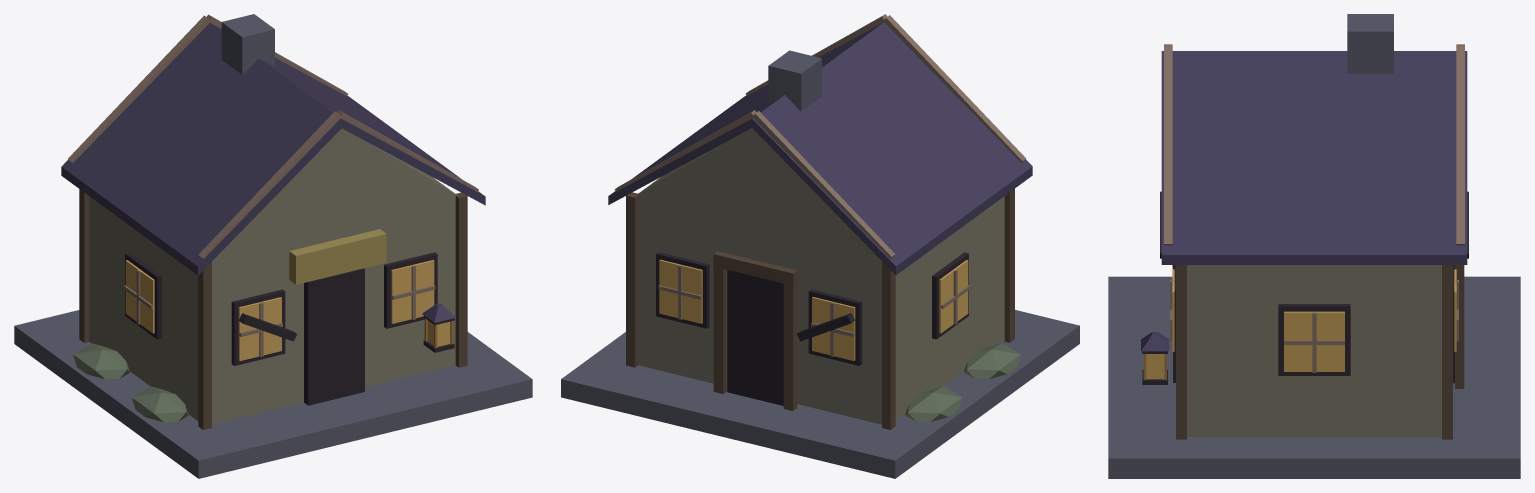
Rendered from HauntedWoods_CrookedCottage_Standard.glb.
3 renders of one model, left to right at view 1: azimuth 30°, elevation 25°; view 2: azimuth 150°, elevation 25°; view 3: azimuth 270°, elevation 25°, orthographic. The views are drawn at different scales.
Parts seen in each view (by area): view 1: HauntedWoods_CrookedCottage_Standard; view 2: HauntedWoods_CrookedCottage_Standard; view 3: HauntedWoods_CrookedCottage_Standard.
Boxes of the visible parts, <box> form: HauntedWoods_CrookedCottage_Standard: <box>14,14,532,478</box>; HauntedWoods_CrookedCottage_Standard: <box>561,14,1079,478</box>; HauntedWoods_CrookedCottage_Standard: <box>1108,14,1520,478</box>.
Size of the model in its own units: 4.6 by 4.3 by 4.4.
